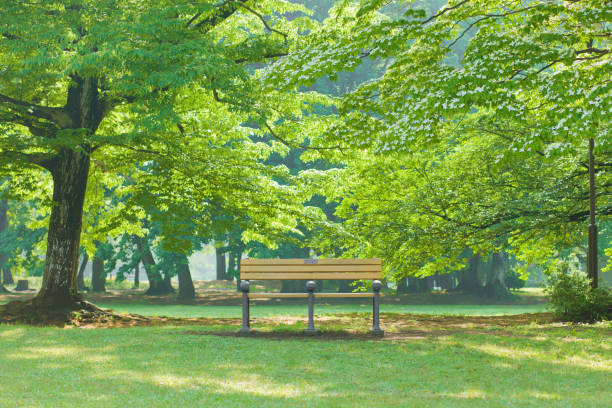bench: (237, 253, 388, 338)
